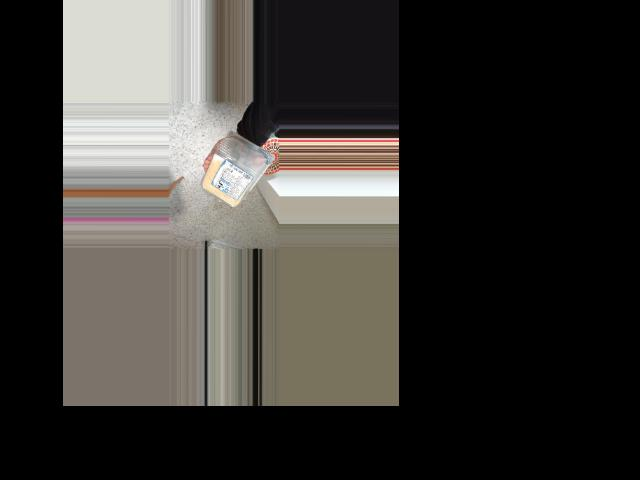cheese: (210, 140, 268, 210)
